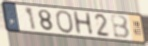1: (24, 6, 37, 32)
2: (93, 13, 111, 39)
8: (37, 9, 56, 32)
B: (109, 15, 132, 40)
H: (71, 10, 95, 36)
O: (54, 10, 75, 35)
